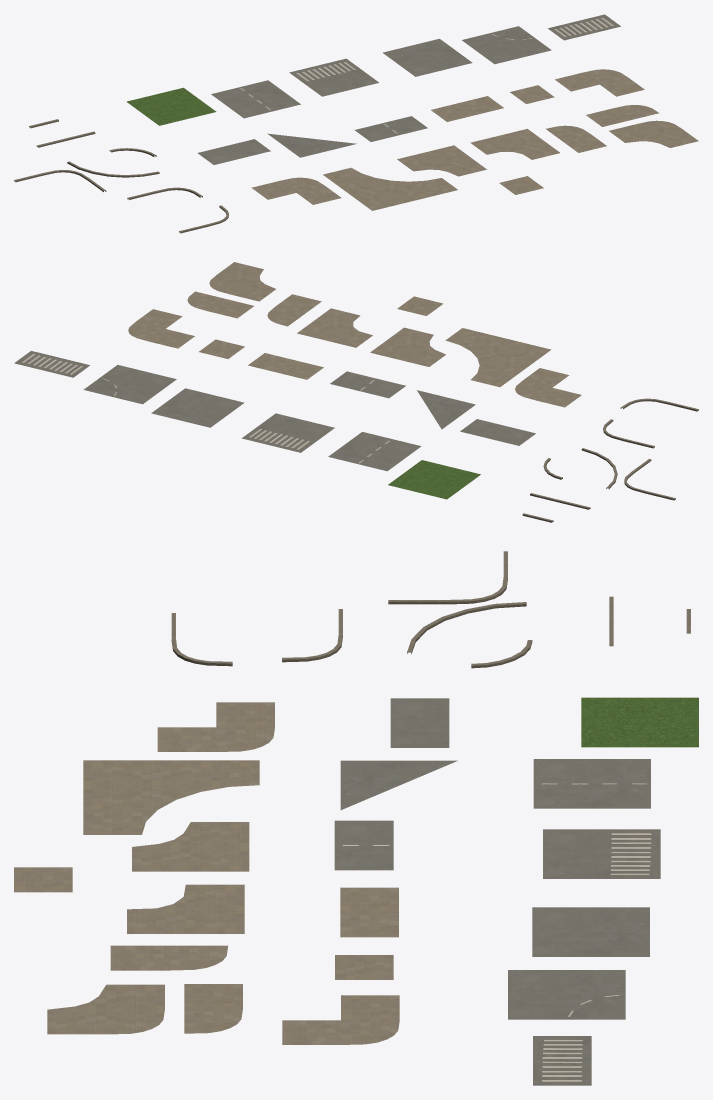
The model's file is comp-resort-roads.glb.
The picture shows the model from 3 angles, top to bottom: view 1: azimuth 30°, elevation 25°; view 2: azimuth 150°, elevation 25°; view 3: azimuth 270°, elevation 25°; orthographic projection. The views are drawn at different scales.
Parts seen in each view (by area): view 1: Sidewalk_corner_2, Road_2, Road_3, Grass, Road_4, Road_1, Sidewalk_corner_3, Sidewalk_corner_4, Sidewalk_corner_7, Sidewalk_corner, Sidewalk_corner_1, Road_half_3 (+8 smaller); view 2: Sidewalk_corner_2, Grass, Road_3, Road_1, Road_2, Road_4, Sidewalk_corner_3, Sidewalk_corner_4, Sidewalk_corner_7, Sidewalk_corner_1, Sidewalk_corner, Road_half_4 (+8 smaller); view 3: Sidewalk_corner_2, Grass, Road_1, Road_2, Road_3, Road_4, Sidewalk_corner_3, Sidewalk_corner_7, Sidewalk_corner_4, Sidewalk_corner_1, Sidewalk_corner, Road_half_3 (+9 smaller).
Boxes of the visible parts, x1=… form: Sidewalk_corner_2: x1=323, y1=167, x2=457, y2=210; Road_2: x1=289, y1=58, x2=378, y2=96; Road_3: x1=383, y1=38, x2=472, y2=76; Grass: x1=126, y1=87, x2=216, y2=125; Road_4: x1=462, y1=26, x2=551, y2=64; Road_1: x1=211, y1=80, x2=300, y2=118; Sidewalk_corner_3: x1=397, y1=145, x2=486, y2=176; Sidewalk_corner_4: x1=470, y1=129, x2=559, y2=159; Sidewalk_corner_7: x1=609, y1=120, x2=698, y2=147; Sidewalk_corner: x1=555, y1=69, x2=644, y2=96; Sidewalk_corner_1: x1=251, y1=177, x2=341, y2=204; Road_half_3: x1=267, y1=133, x2=356, y2=157; Sidewalk_corner_2: x1=445, y1=328, x2=550, y2=387; Grass: x1=388, y1=460, x2=480, y2=499; Road_3: x1=151, y1=388, x2=244, y2=427; Road_1: x1=328, y1=432, x2=421, y2=471; Road_2: x1=242, y1=413, x2=334, y2=452; Road_4: x1=83, y1=365, x2=176, y2=404; Sidewalk_corner_3: x1=370, y1=327, x2=445, y2=366; Sidewalk_corner_4: x1=297, y1=308, x2=372, y2=347; Sidewalk_corner_7: x1=209, y1=262, x2=275, y2=301; Sidewalk_corner_1: x1=515, y1=368, x2=581, y2=407; Sidewalk_corner: x1=128, y1=309, x2=194, y2=348; Road_half_4: x1=330, y1=371, x2=405, y2=398; Sidewalk_corner_2: x1=83, y1=760, x2=259, y2=834; Grass: x1=581, y1=697, x2=698, y2=747; Road_1: x1=533, y1=759, x2=650, y2=808; Road_2: x1=543, y1=829, x2=660, y2=878; Road_3: x1=532, y1=907, x2=649, y2=956; Road_4: x1=508, y1=970, x2=625, y2=1019; Sidewalk_corner_3: x1=132, y1=822, x2=249, y2=871; Sidewalk_corner_7: x1=47, y1=984, x2=164, y2=1034; Sidewalk_corner_4: x1=127, y1=884, x2=244, y2=933; Sidewalk_corner_1: x1=157, y1=702, x2=274, y2=751; Sidewalk_corner: x1=282, y1=995, x2=399, y2=1044; Road_half_3: x1=340, y1=760, x2=457, y2=809.
Bounding box in the file's own units: 64.27 × 0.1505 × 34.98.
7 materials, 7 textured.
